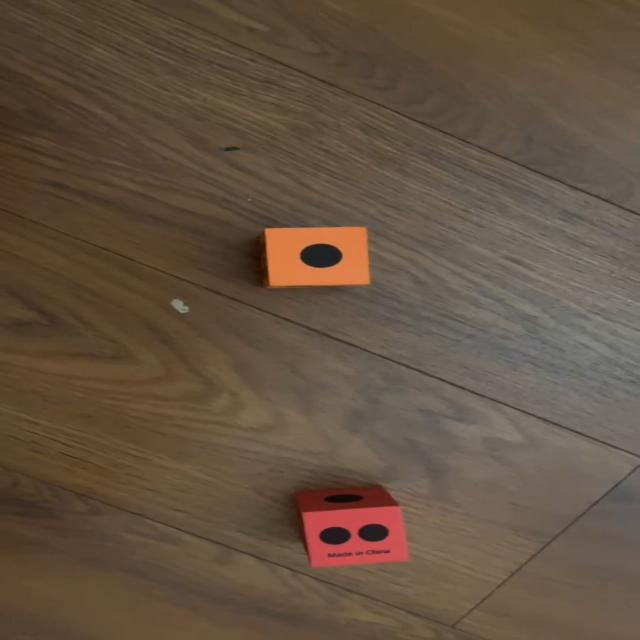red_block: (291, 487, 411, 567)
